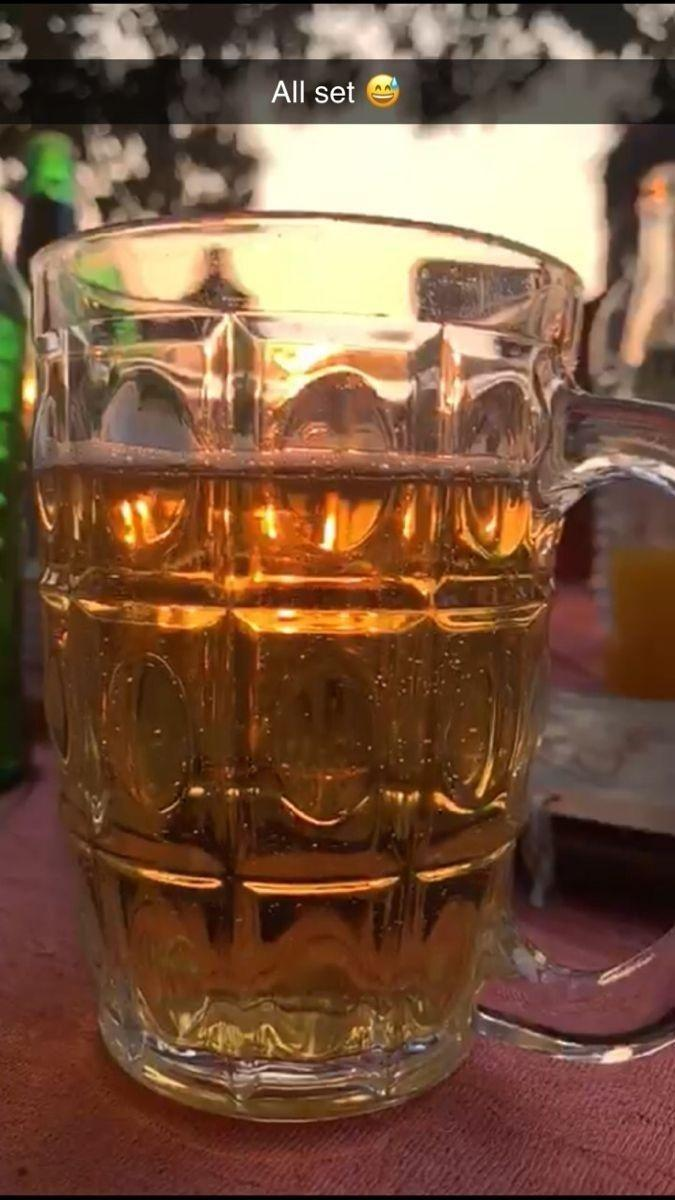glass-mug: (15, 214, 675, 1140)
